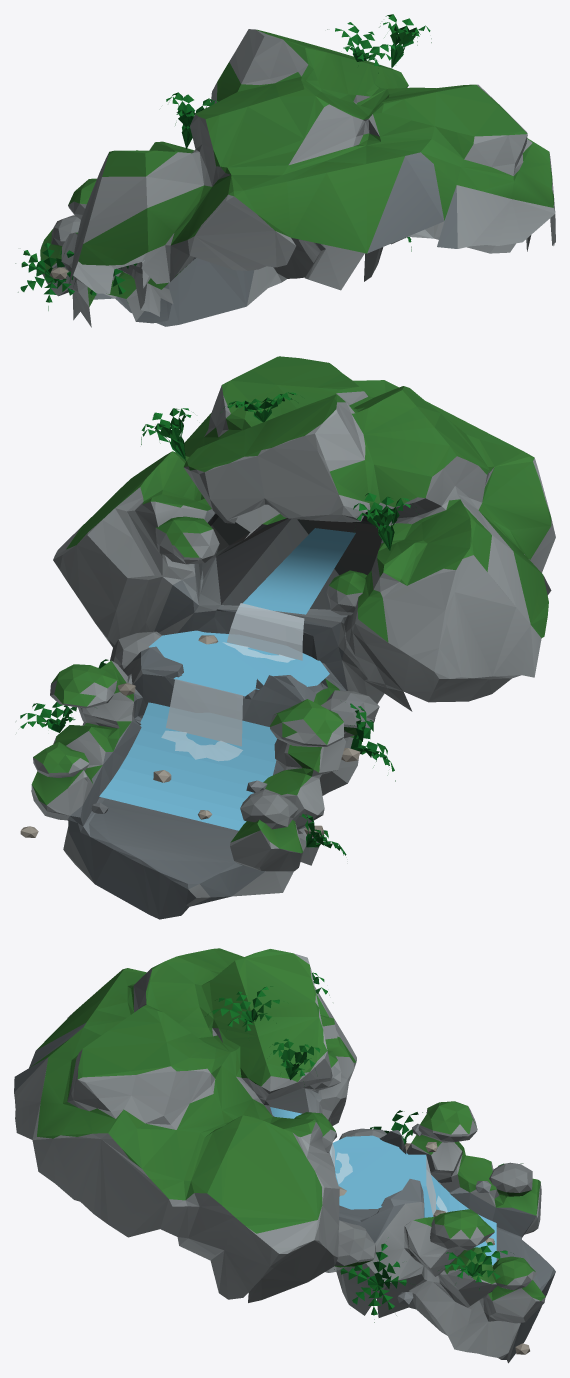
The model's file is spring_cave.glb.
3 views of the same model, one above another, from view 1: azimuth 30°, elevation 25°; view 2: azimuth 150°, elevation 25°; view 3: azimuth 270°, elevation 25° (orthographic). The views are drawn at different scales.
Parts seen in each view (by area): view 1: rock; view 2: rock, water, water_fall, water_foam; view 3: rock, water.
Part boxes in pixels (x1=…): rock: x1=15, y1=14, x2=555, y2=327; rock: x1=20, y1=356, x2=555, y2=919; water: x1=99, y1=528, x2=355, y2=830; water_fall: x1=166, y1=603, x2=304, y2=746; water_foam: x1=161, y1=642, x2=294, y2=761; rock: x1=14, y1=948, x2=555, y2=1363; water: x1=270, y1=1107, x2=496, y2=1265.
Bounding box in the file's own units: 9.27 × 7.73 × 10.11.
